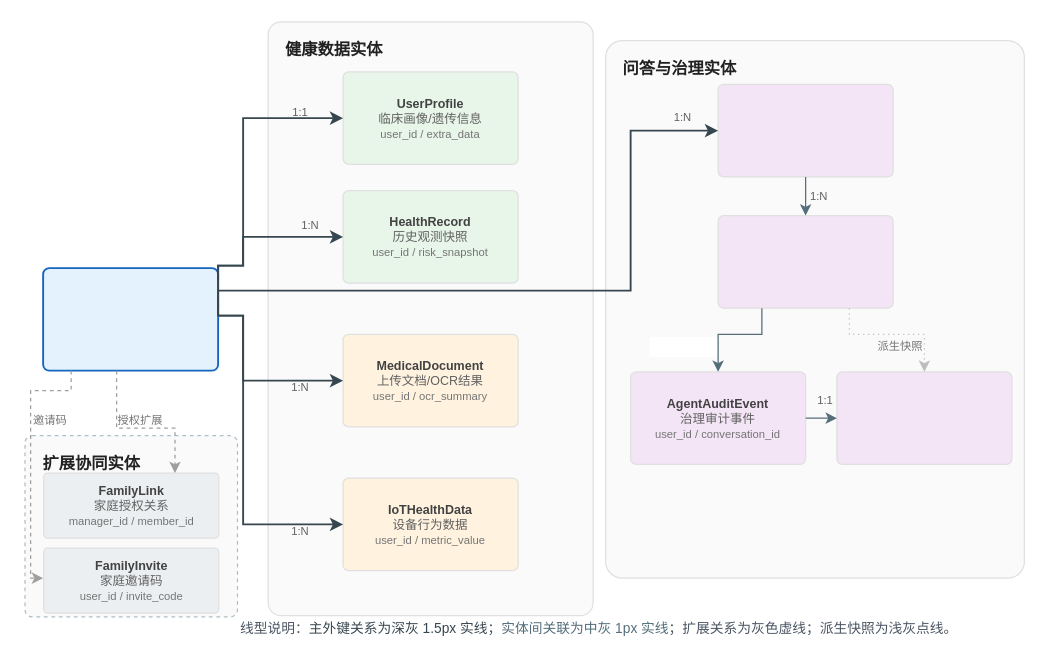
The diagram is 1046 pixels wide and 665 high, and some of its shapes have lost their labels. Each missing label, with the centre of its shape:
AgentAnswerReplay 回答回放快照 message_id / audit_id: point 924,417
ChatConversation 问答会话 user_id: point 805,130
ChatMessage 逐条消息/证据面板 conversation_id: point 805,261
User 用户账户 id / username: point 130,319
审计关联: point 682,346
